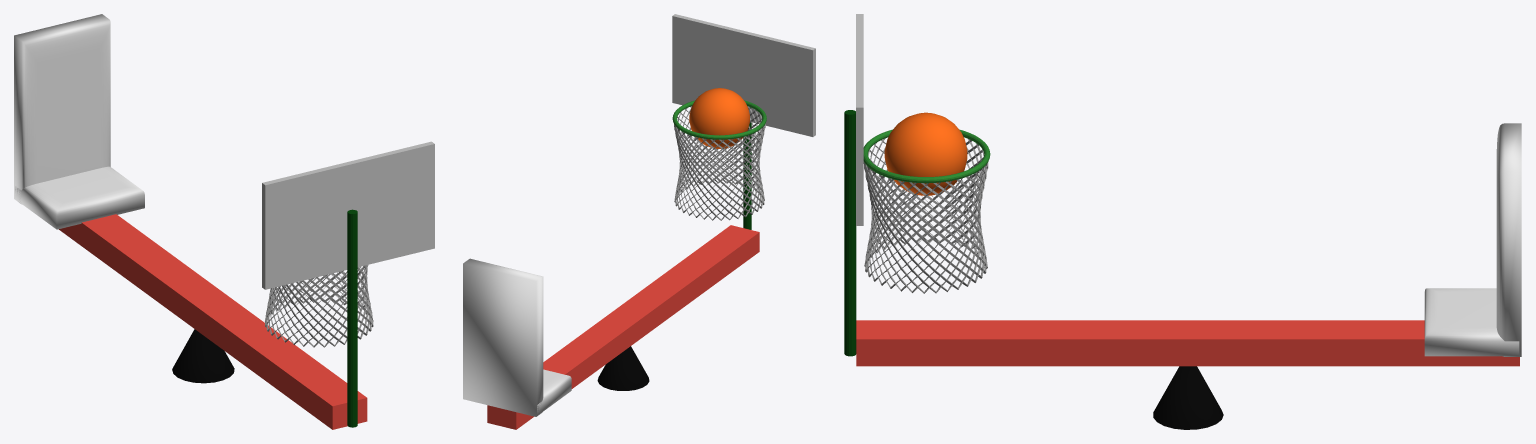
File: Sube Y Baja Rotatorio 2.fbx
3 renders of one model, left to right at view 1: azimuth 30°, elevation 25°; view 2: azimuth 150°, elevation 25°; view 3: azimuth 270°, elevation 25°, orthographic. The views are drawn at different scales.
Visible parts, largest first — view 1: Tablero basket (pendiente de texturizar), Soporte Basket, Cojin.006, Cojin.005, Red basket, Pole Baket, Base basket; view 2: Tablero basket (pendiente de texturizar), Cojin.006, Soporte Basket, Red basket, Pelota basket, Base basket, Cojin.005, Aro basket, Pole Baket; view 3: Soporte Basket, Red basket, Cojin.006, Cojin.005, Pelota basket, Base basket, Pole Baket, Tablero basket (pendiente de texturizar), Aro basket.
Part boxes in pixels (left/top/right/bottom): Tablero basket (pendiente de texturizar): left=262, top=141, right=434, bottom=289; Soporte Basket: left=59, top=214, right=367, bottom=429; Cojin.006: left=14, top=14, right=110, bottom=204; Cojin.005: left=15, top=166, right=144, bottom=229; Red basket: left=265, top=265, right=373, bottom=347; Pole Baket: left=347, top=209, right=357, bottom=427; Base basket: left=172, top=329, right=234, bottom=383; Tablero basket (pendiente de texturizar): left=672, top=14, right=815, bottom=136; Cojin.006: left=463, top=258, right=543, bottom=416; Soporte Basket: left=487, top=225, right=759, bottom=429; Red basket: left=674, top=106, right=765, bottom=220; Pelota basket: left=689, top=88, right=749, bottom=148; Base basket: left=597, top=346, right=649, bottom=390; Cojin.005: left=537, top=369, right=571, bottom=415; Aro basket: left=672, top=100, right=766, bottom=139; Pole Baket: left=743, top=122, right=751, bottom=229; Soporte Basket: left=856, top=320, right=1519, bottom=366; Red basket: left=863, top=138, right=988, bottom=293; Cojin.006: left=1496, top=123, right=1521, bottom=356; Cojin.005: left=1424, top=288, right=1519, bottom=356; Pelota basket: left=884, top=112, right=967, bottom=195; Base basket: left=1153, top=366, right=1223, bottom=429; Pole Baket: left=844, top=110, right=856, bottom=356; Tablero basket (pendiente de texturizar): left=856, top=14, right=863, bottom=225; Aro basket: left=863, top=129, right=990, bottom=183.
Size of the model in its own units: 200 by 611 by 353.
